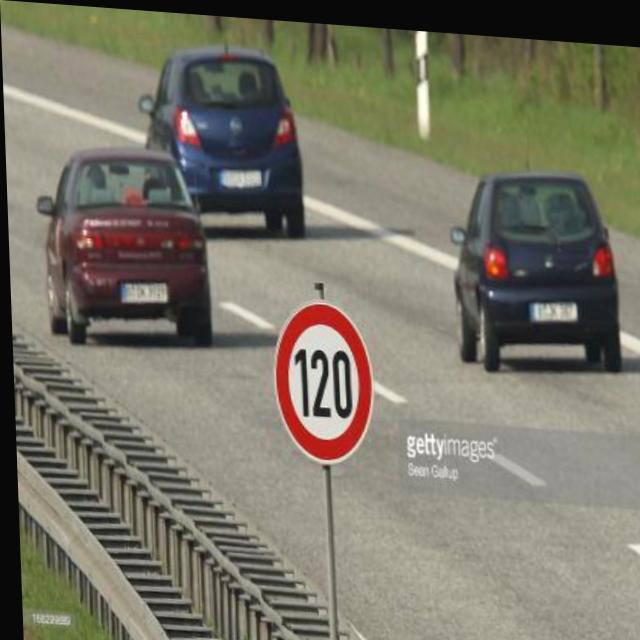limit120: (262, 289, 378, 465)
